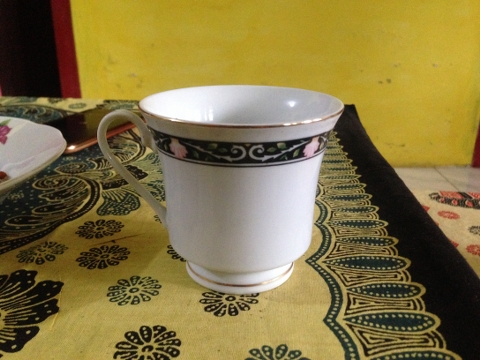tempat minum: (97, 85, 344, 294)
